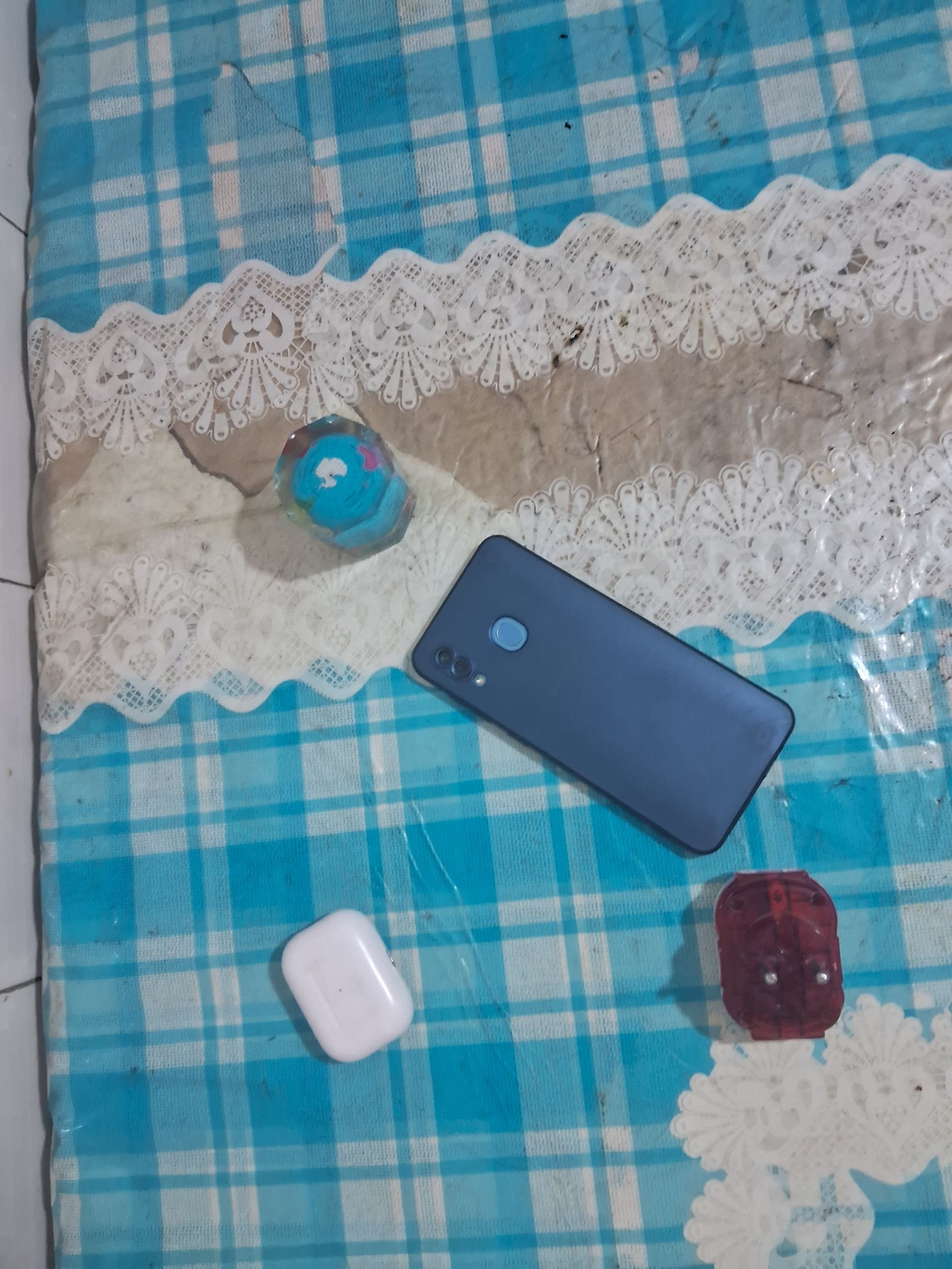Air_pod: (276, 902, 422, 1069)
Multi_adapter: (709, 864, 852, 1049)
Smart_phone: (409, 528, 800, 859)
world_globe: (269, 411, 425, 558)
